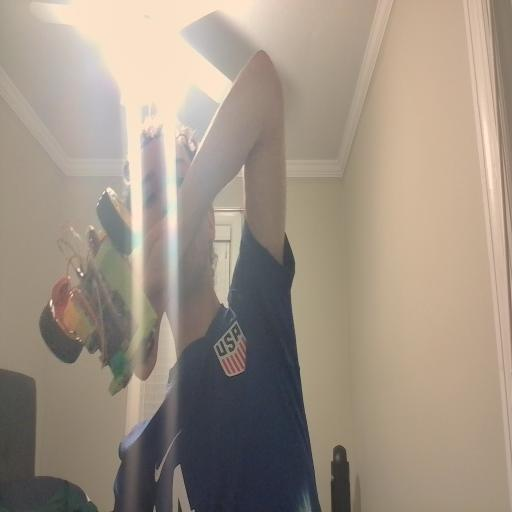green LEGO minifig: (110, 350, 132, 380)
